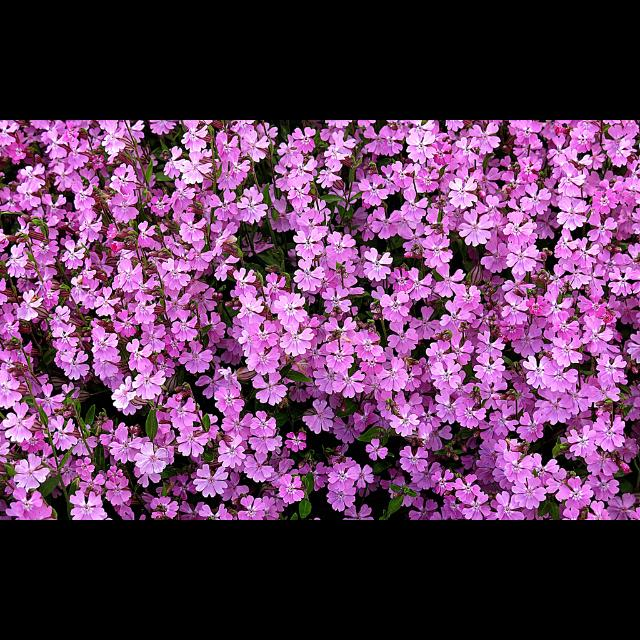Flower: (8, 120, 620, 490)
